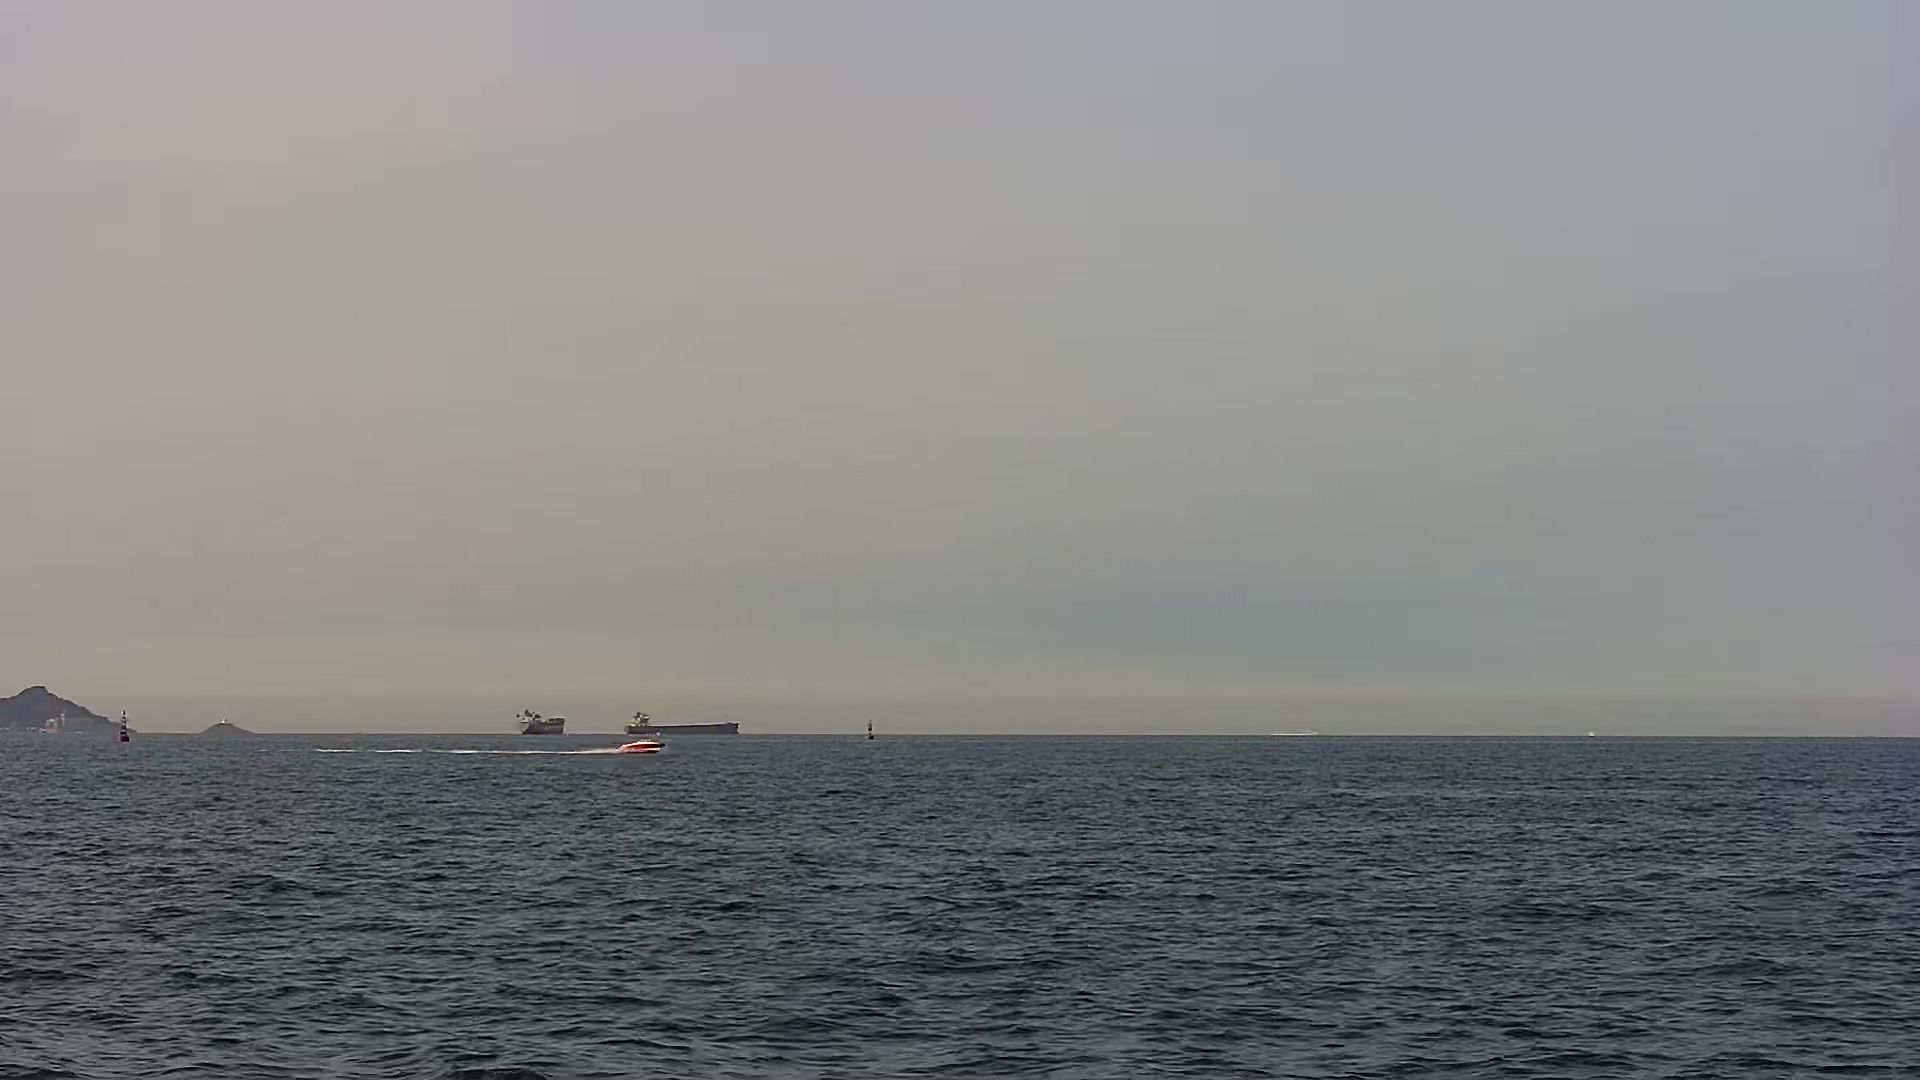boat: (622, 733, 673, 760)
buoy: (113, 704, 138, 752)
ship: (615, 707, 746, 741), (510, 709, 578, 741)
